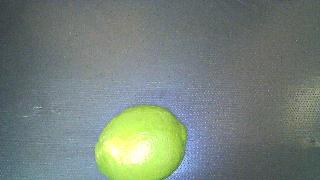EXPORTACION: (94, 105, 187, 180)
